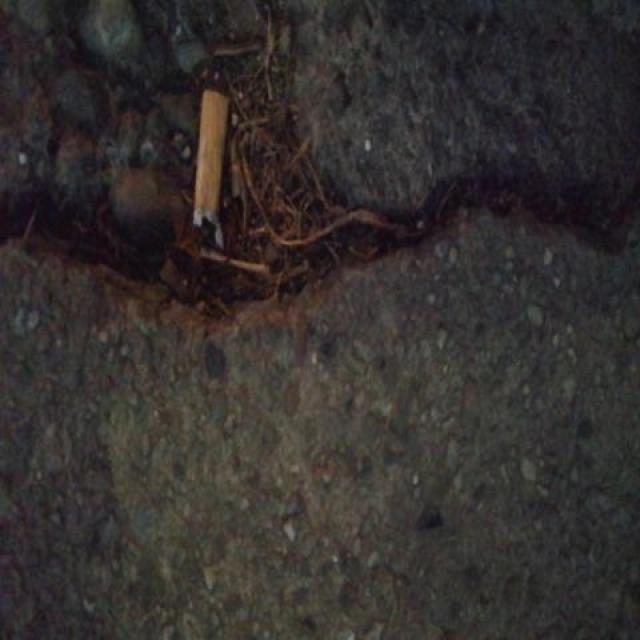non-organic waste: (190, 84, 233, 252)
